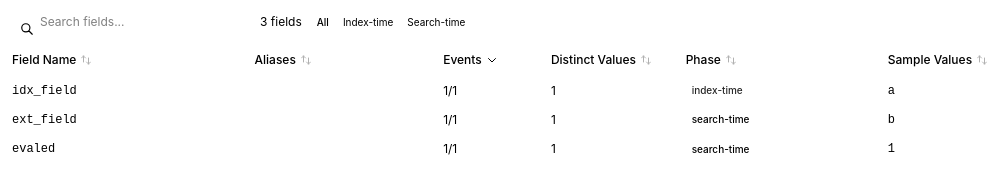
it: FieldsTab › filters to search-time only when Search-time pill is clicked
The width and height of the screenshot is (1004, 172).
What coordinates should you click on to do the following:
click the button "Search-time"
I would click on:
 (436, 22)
Its box is [401,12,471,32].
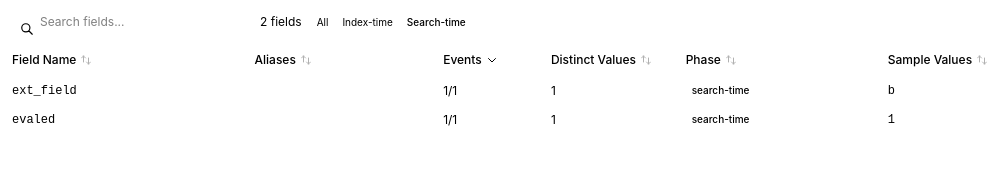
Check: the text "ext_field" is shown, box [12,83,77,99]
Check: the text "idx_field" is gone
Check: the text "2 fields" is shown, box [260,14,302,30]
